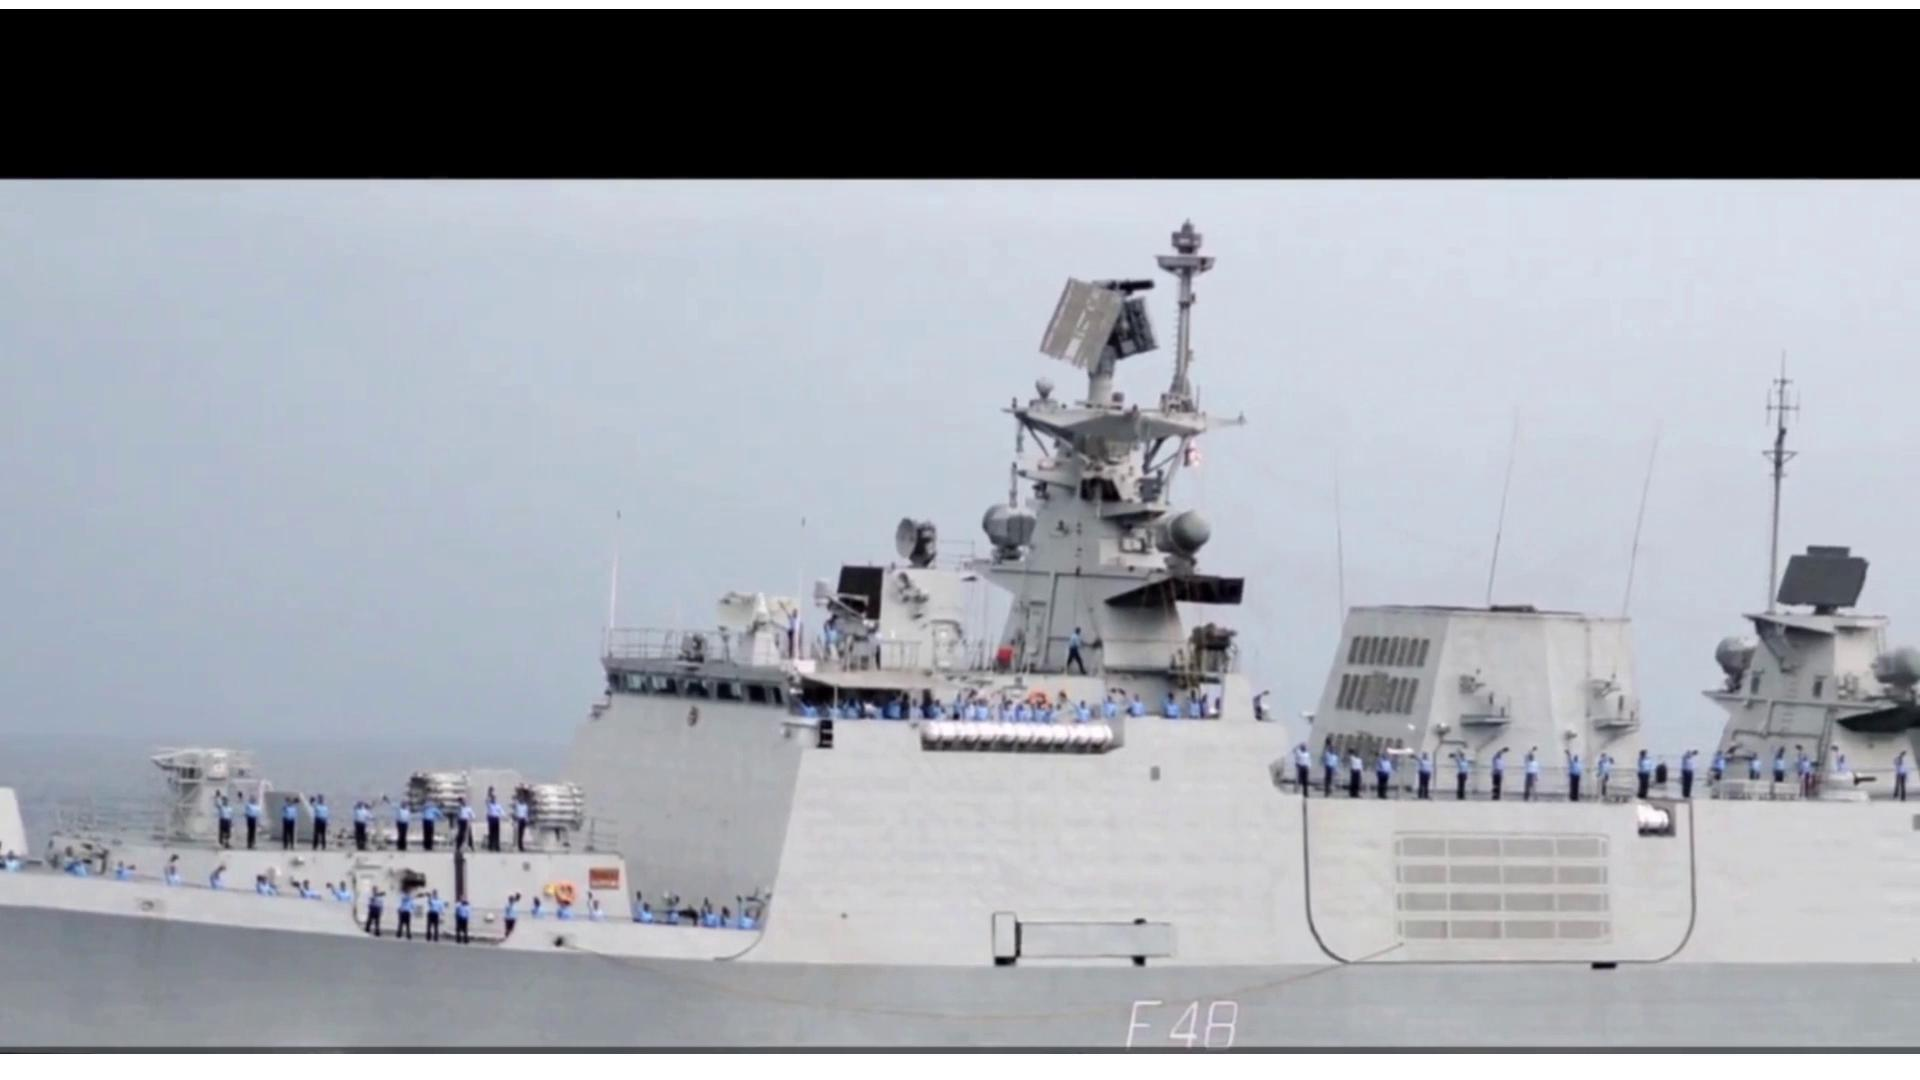OCR: (1096, 985, 1254, 1047)
